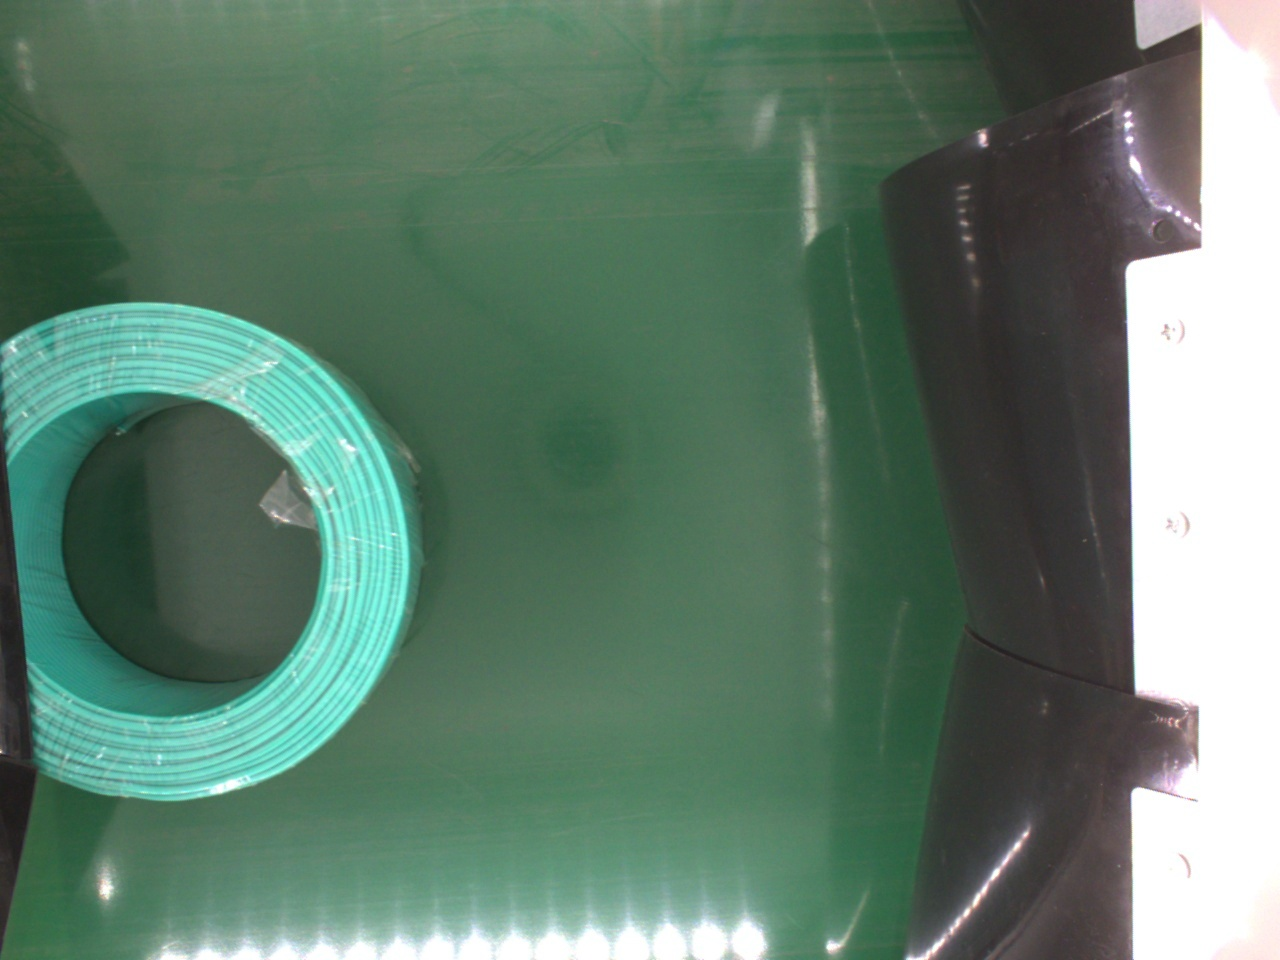green: (6, 298, 419, 805)
